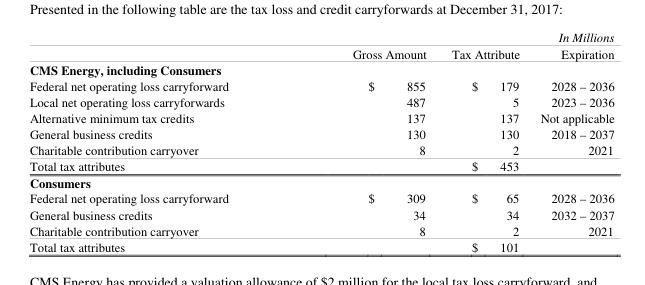table: (28, 29, 613, 254)
table column: (28, 29, 289, 254), (289, 29, 438, 254), (438, 29, 529, 254), (529, 29, 613, 254)
table column header: (28, 29, 613, 60)
table projected row header: (28, 60, 613, 77), (28, 173, 613, 190)
table row: (28, 29, 613, 60), (28, 60, 613, 77), (28, 92, 613, 109), (28, 173, 613, 190), (28, 237, 613, 254), (28, 109, 613, 125), (28, 125, 613, 141), (28, 141, 613, 157), (28, 157, 613, 173), (28, 205, 613, 221), (28, 221, 613, 237), (28, 77, 613, 92), (28, 190, 613, 205)
